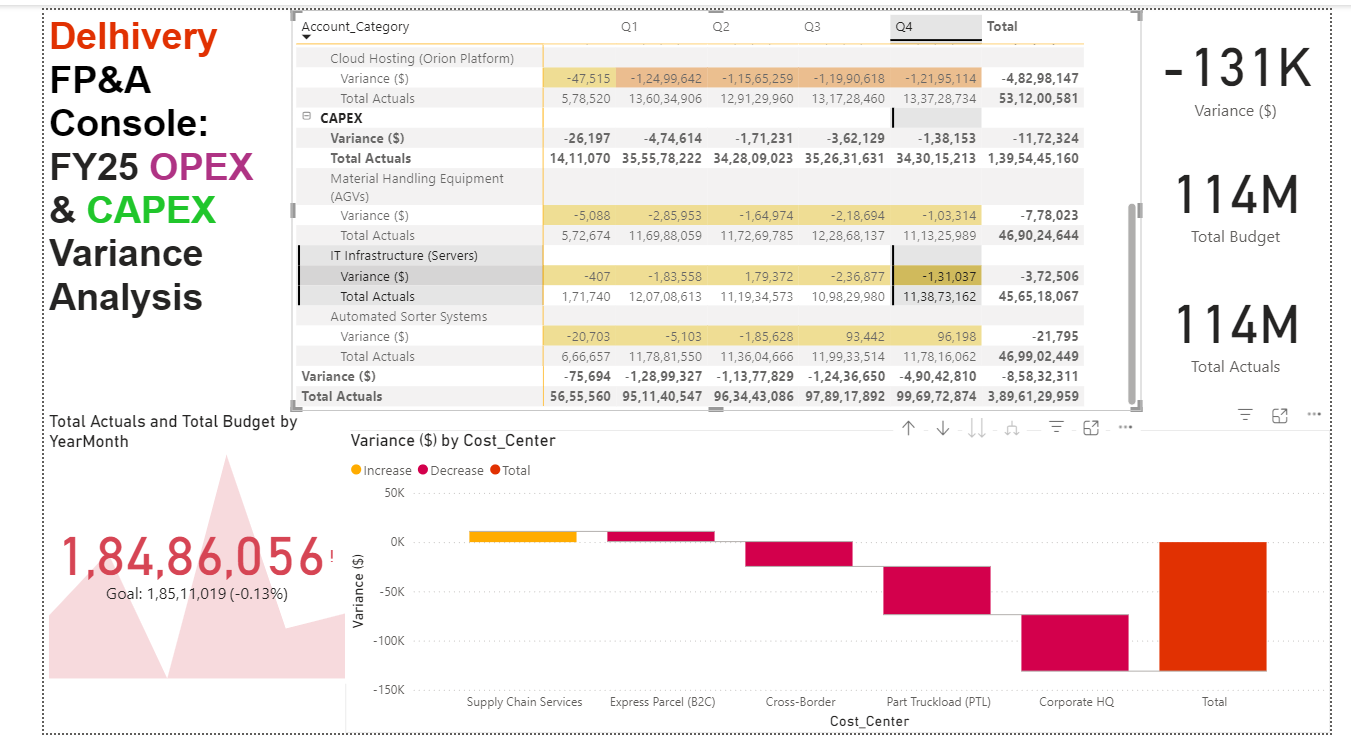

This screenshot's page, from the dashboard's own definition file:
{"tool":"powerbi","page":{"name":"Page 1","canvas":[1280,720],"ordinal":0},"visuals":[{"type":"waterfallChart","fields":{"Category":["Delhivery_Simulated_GL.Cost_Center"],"Y":["_Measures.Variance ($)"]},"box":[299.8,418,980.2,302.3],"z":0},{"type":"pivotTable","fields":{"Rows":["Delhivery_Simulated_GL.Account_Category","Delhivery_Simulated_GL.GL_Account_Name"],"Columns":["Calendar.Quarter"],"Values":["_Measures.Variance ($)","_Measures.Total Actuals"]},"box":[246.3,0,845.9,399.3],"z":1000},{"type":"card","fields":{"Values":["_Measures.Total Budget"]},"box":[1092.2,121.9,187.8,129.4],"z":2000},{"type":"card","fields":{"Values":["_Measures.Variance ($)"]},"box":[1092.2,0,187.8,121.9],"z":3000},{"type":"card","fields":{"Values":["_Measures.Total Actuals"]},"box":[1092.2,251.3,187.8,129.4],"z":4000},{"type":"kpi","fields":{"TrendLine":["Calendar.YearMonth"],"Indicator":["_Measures.Total Actuals"],"Goal":["_Measures.Total Budget"]},"box":[0,399.3,304.8,271.2],"z":5000},{"type":"textbox","box":[0,0,246.3,359.5],"z":5001}]}

Visuals, with their boxes on the page's 1280x720 design canvas (x1, y1, x2, y2). These are canvas units, not pixel positions in the 1351x735 screenshot, which may show the page scaled, cropped or inside an application window:
waterfallChart - Delhivery_Simulated_GL.Cost_Center x _Measures.Variance ($): left=300, top=418, right=1280, bottom=720
pivotTable - Delhivery_Simulated_GL.Account_Category x Delhivery_Simulated_GL.GL_Account_Name: left=246, top=0, right=1092, bottom=399
card - _Measures.Total Budget: left=1092, top=122, right=1280, bottom=251
card - _Measures.Variance ($): left=1092, top=0, right=1280, bottom=122
card - _Measures.Total Actuals: left=1092, top=251, right=1280, bottom=381
kpi - Calendar.YearMonth x _Measures.Total Actuals: left=0, top=399, right=305, bottom=670
textbox: left=0, top=0, right=246, bottom=360
